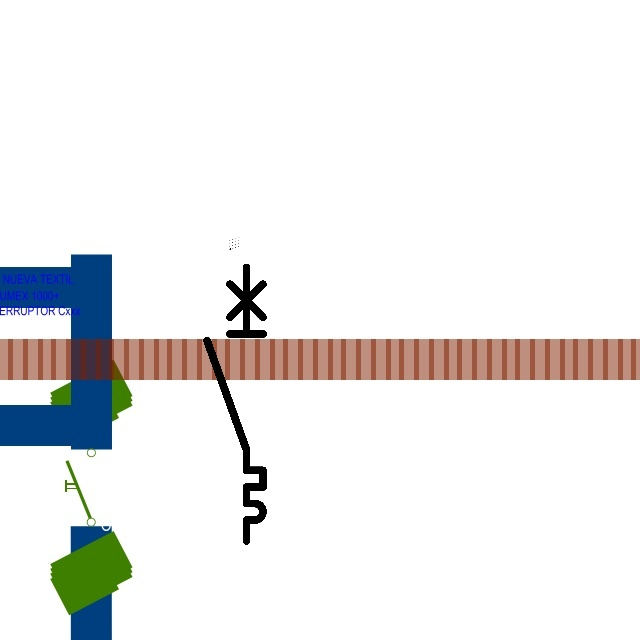interruptor_termomagnetico: (200, 260, 270, 547)
